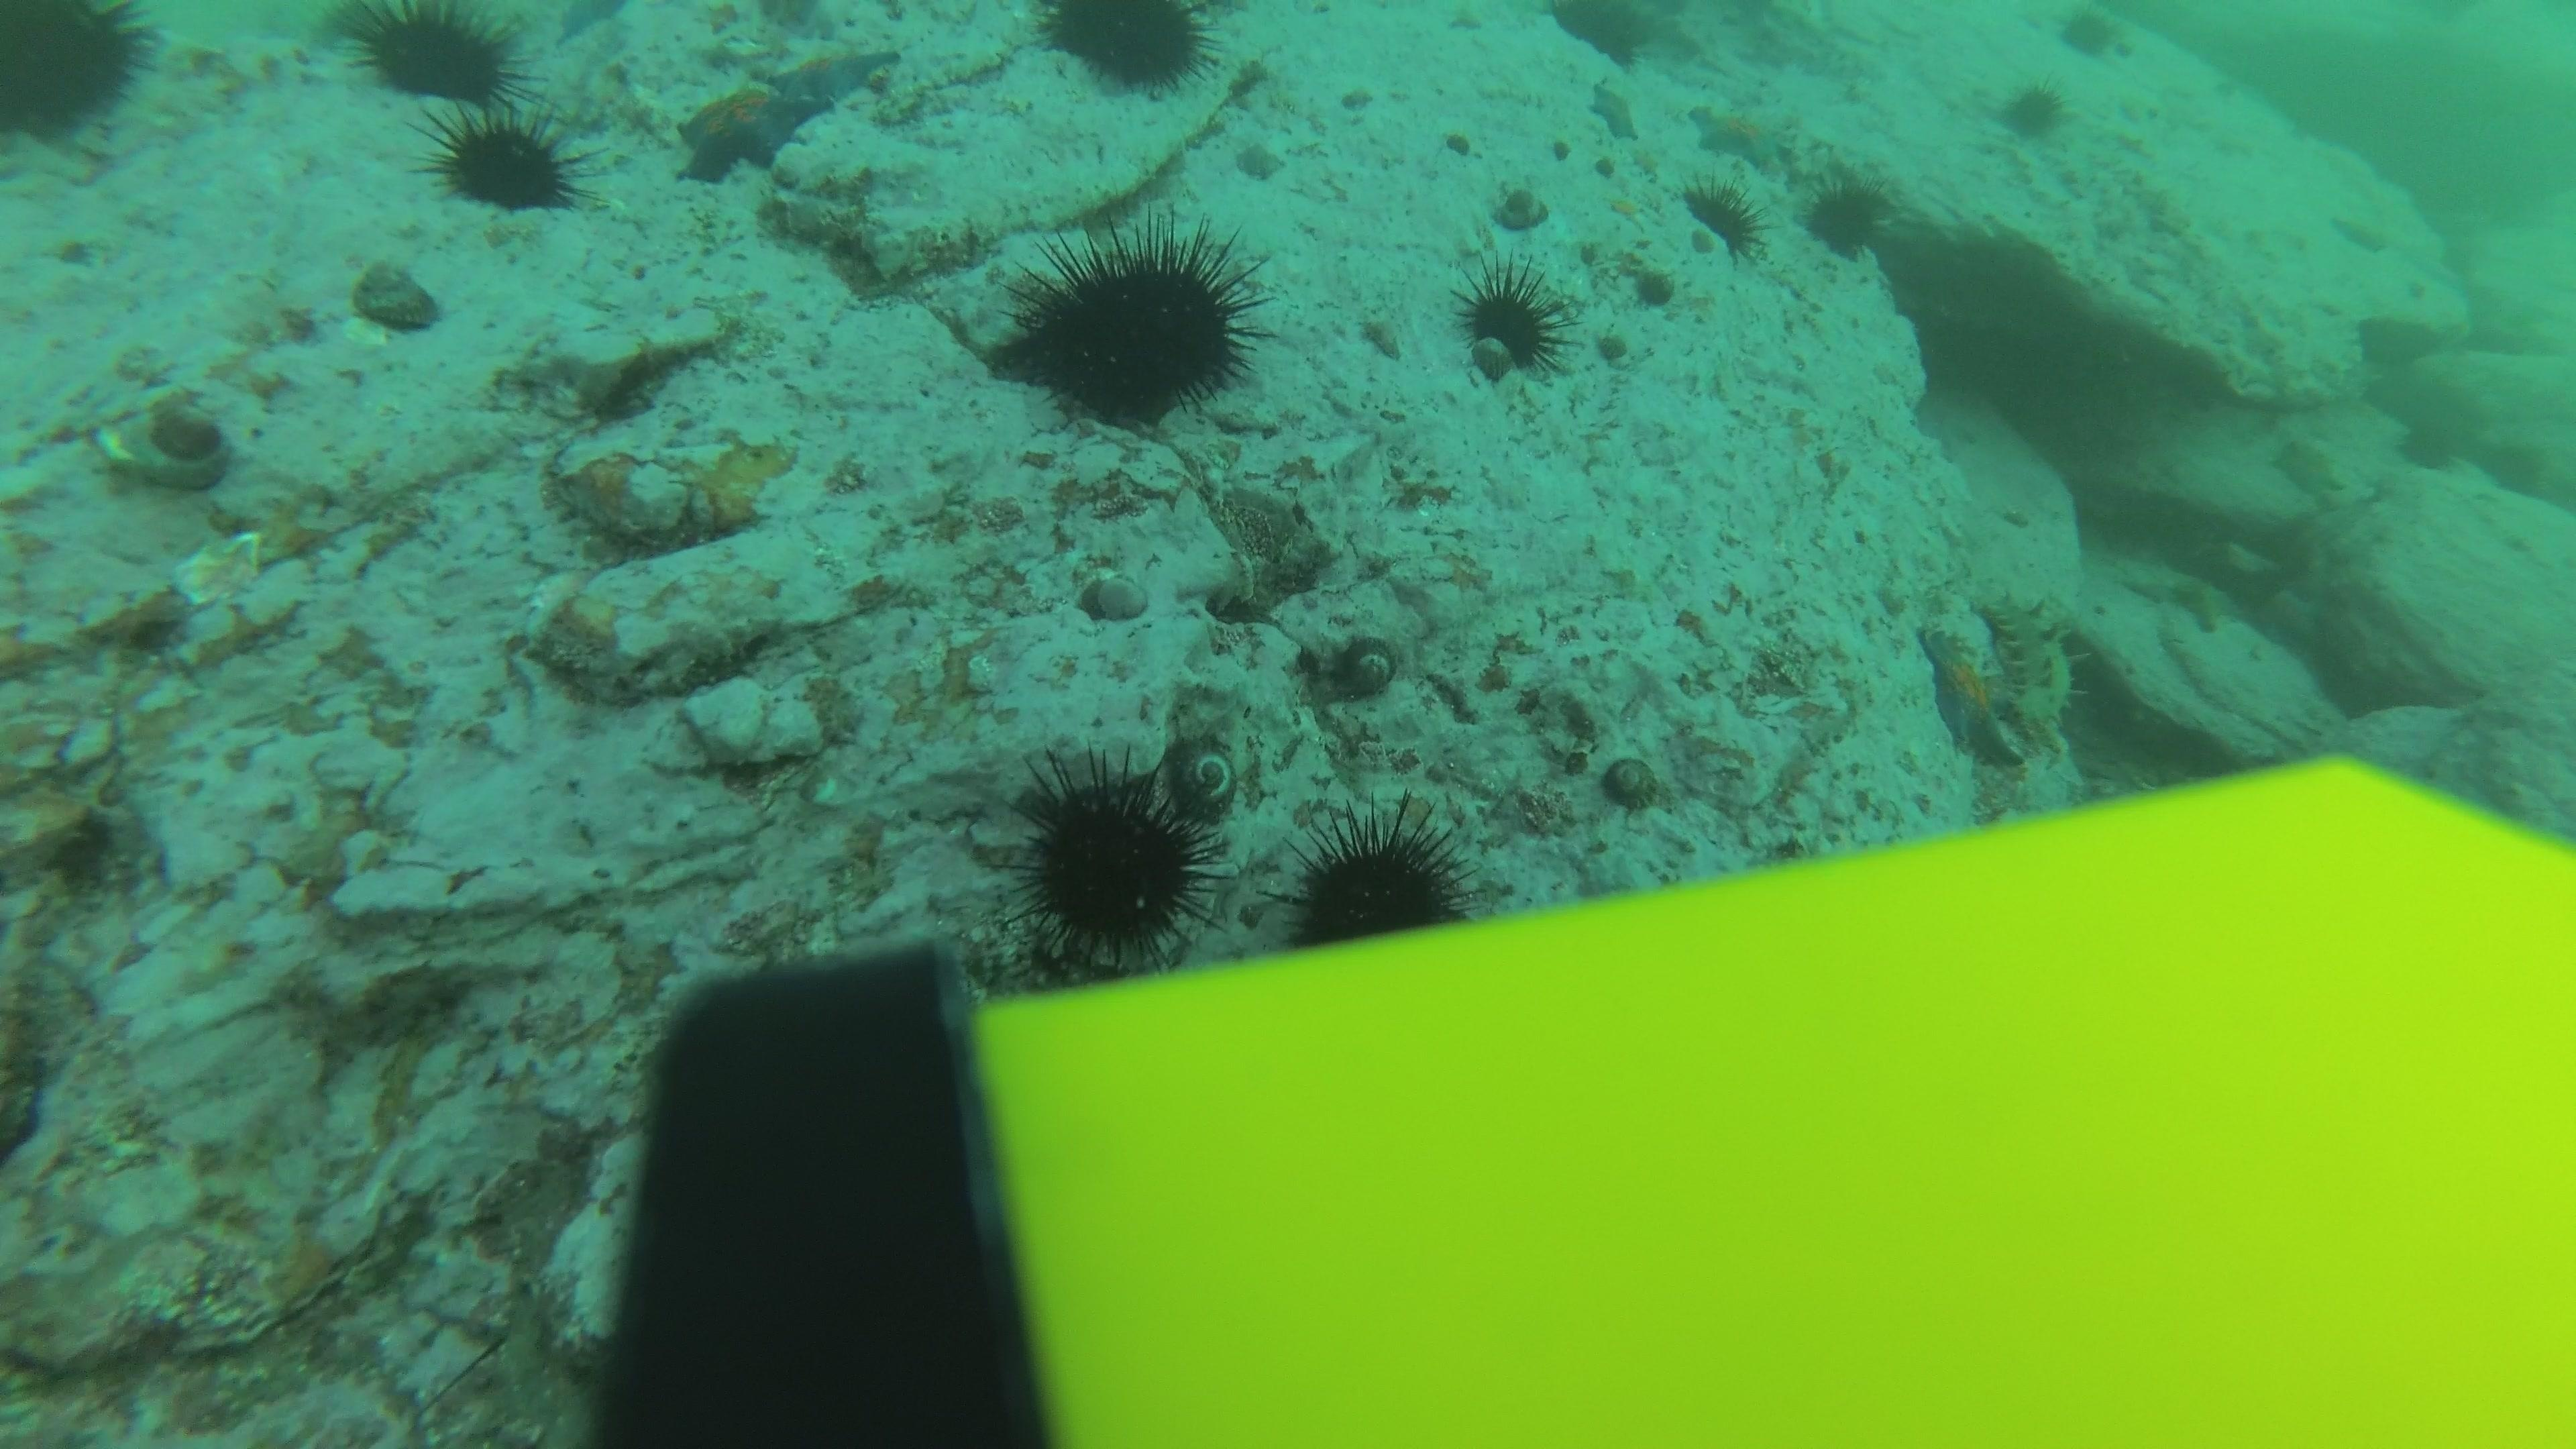echinus: (998, 218, 1265, 430), (1000, 748, 1223, 962), (1274, 801, 1477, 943), (4, 0, 159, 147), (338, 4, 525, 111), (1033, 2, 1219, 99), (428, 106, 582, 219), (1453, 262, 1569, 384), (1801, 170, 1893, 260), (1545, 0, 1660, 69), (1679, 175, 1766, 262), (1996, 74, 2070, 145), (2045, 0, 2121, 69)
holothurian: (1978, 586, 2084, 773)
starfish: (667, 42, 901, 188), (1914, 619, 2026, 766), (752, 37, 904, 111), (2112, 556, 2238, 635), (1683, 97, 1801, 173), (2270, 433, 2348, 501), (1585, 81, 1642, 143), (552, 0, 628, 44), (2328, 207, 2394, 257)
